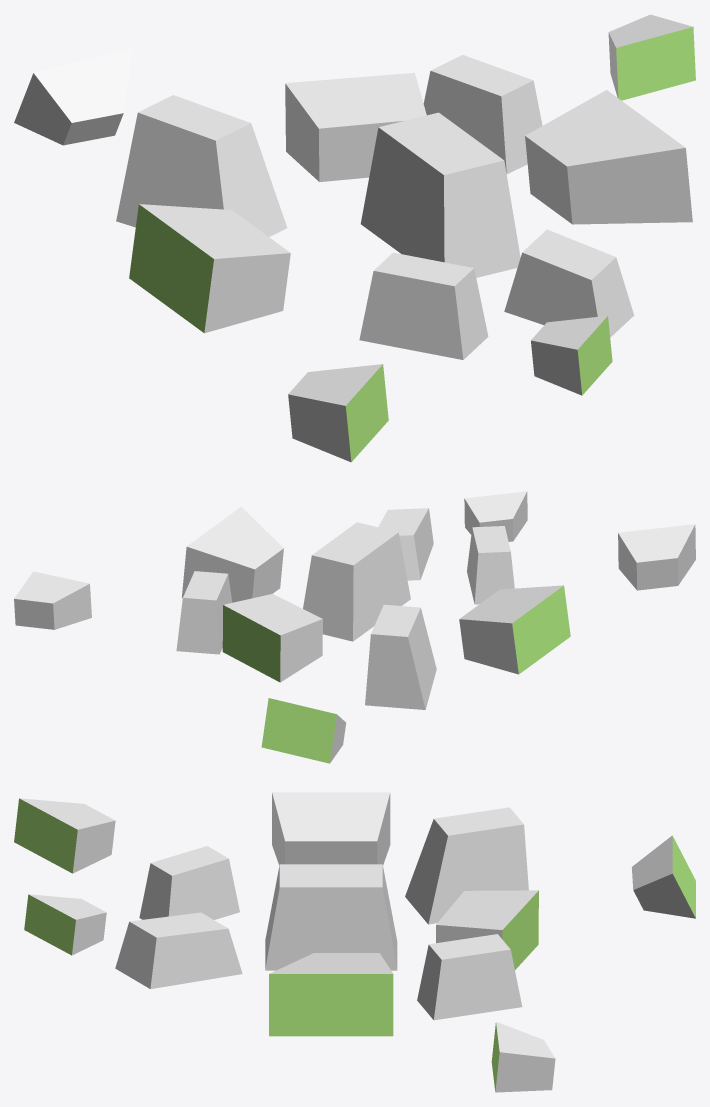
The model's file is onion06.gltf.
3 views of the same model, one above another, from view 1: azimuth 30°, elevation 25°; view 2: azimuth 150°, elevation 25°; view 3: azimuth 270°, elevation 25° (orthographic). The views are drawn at different scales.
Visible parts, largest first — view 1: Cube.011; view 2: Cube.011; view 3: Cube.011.
Part boxes in pixels (<box>): Cube.011: <box>14,14,695,462</box>; Cube.011: <box>14,491,695,763</box>; Cube.011: <box>14,792,695,1092</box>.
Size of the model in its own units: 0.0348 by 0.00531 by 0.039.
Materials: 1 (1 with a texture image).
